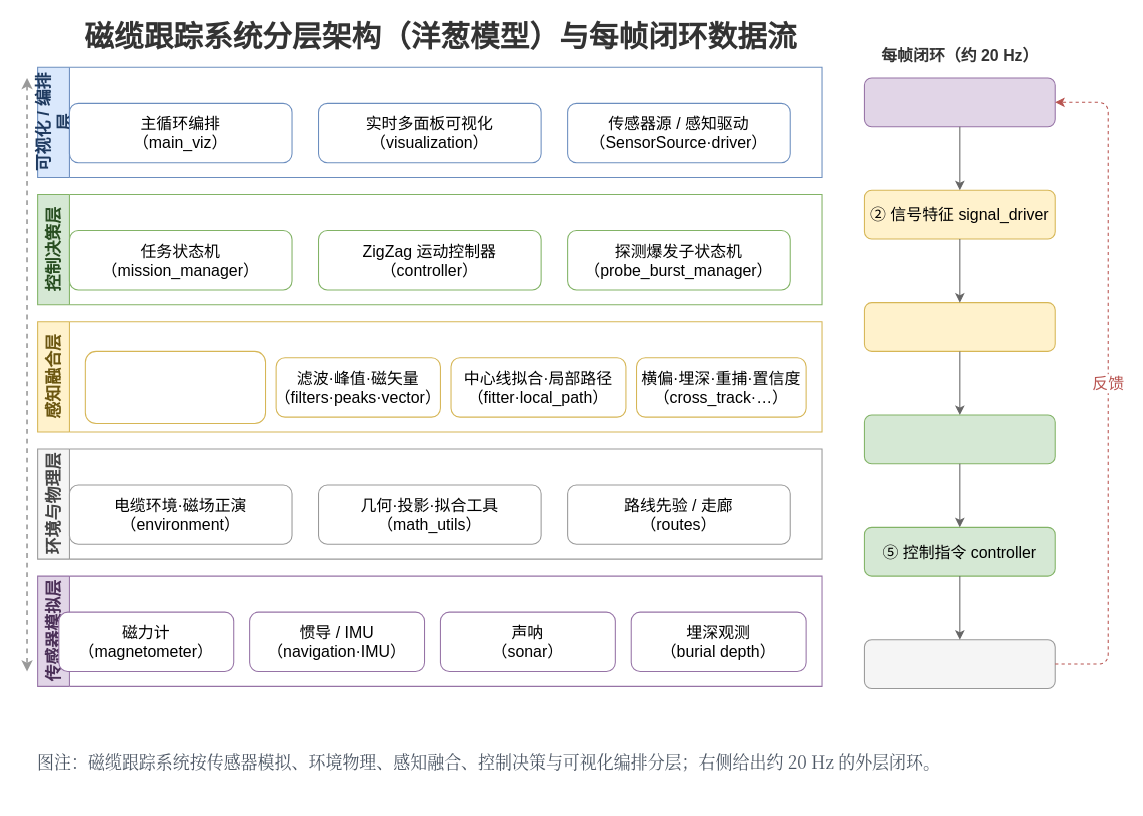
Image size: 1143x816. Some labels were removed from this diagram. Each missing label, with the centre of its shape:
"① 传感器采样 poll" belongs at (959,102).
"③ 感知更新 perception" belongs at (959,326).
"④ 任务决策 mission" belongs at (959,439).
"⑥ 载体推进 backend" belongs at (959,663).
"磁感知编排 （MagneticCable Perception）" belongs at (175,386).
